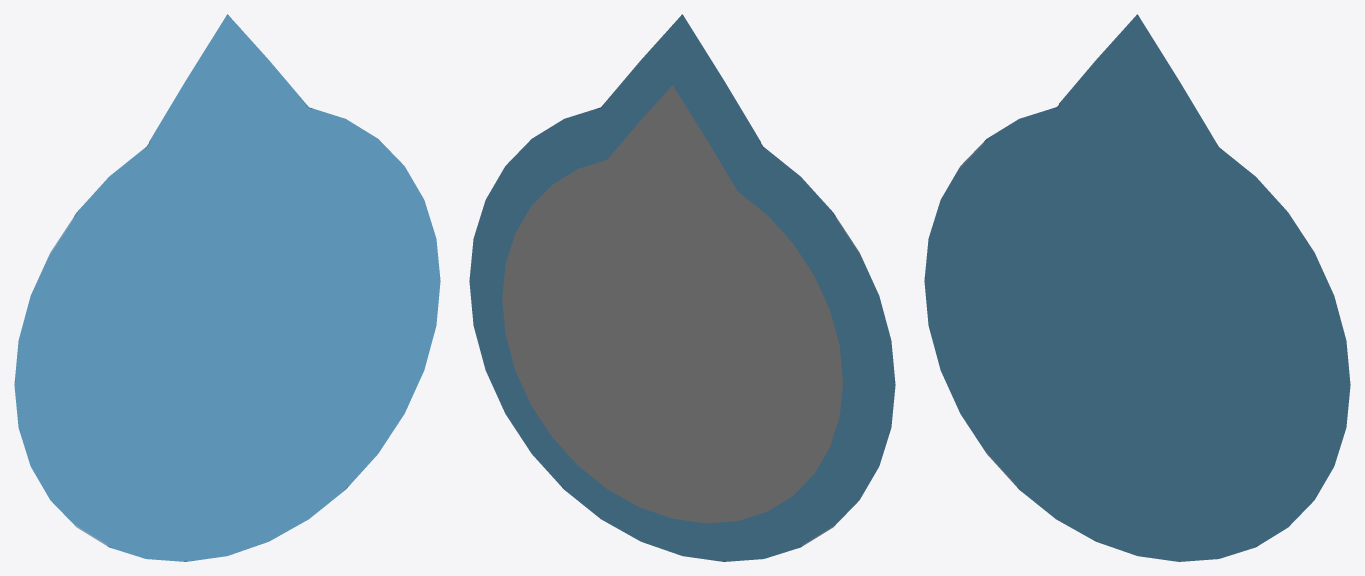
File: OffScreenIcon.obj
3 views of the same model, side by side, from view 1: azimuth 30°, elevation 25°; view 2: azimuth 150°, elevation 25°; view 3: azimuth 330°, elevation 25° (orthographic).
Parts seen in each view (by area): view 1: Circle.001_Circle.002; view 2: Circle_Circle.001, Circle.001_Circle.002; view 3: Circle.001_Circle.002.
Part boxes in pixels (x1,y1,x2,y2): Circle.001_Circle.002: [14, 14, 440, 561]; Circle_Circle.001: [502, 85, 842, 523]; Circle.001_Circle.002: [469, 14, 895, 561]; Circle.001_Circle.002: [924, 14, 1350, 561].
Bounding box in the file's own units: 2.5 × 3.04 × 0.1.
